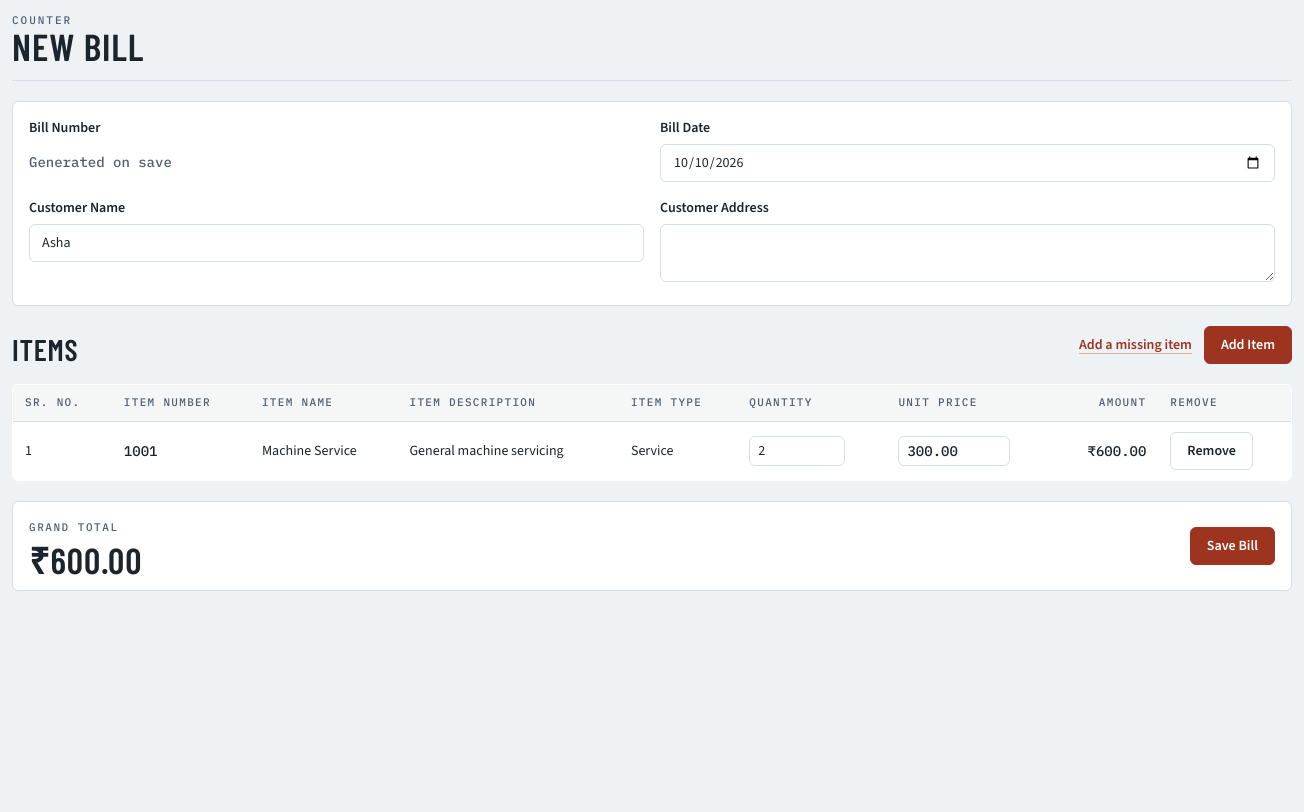
it: keeps View Bill and Create New Bill when the saved bill cannot be loaded
What coordinates should you click on to do the following:
click the button "Save Bill"
I would click on:
 (1232, 546)
Its box is [1190,527,1275,565].
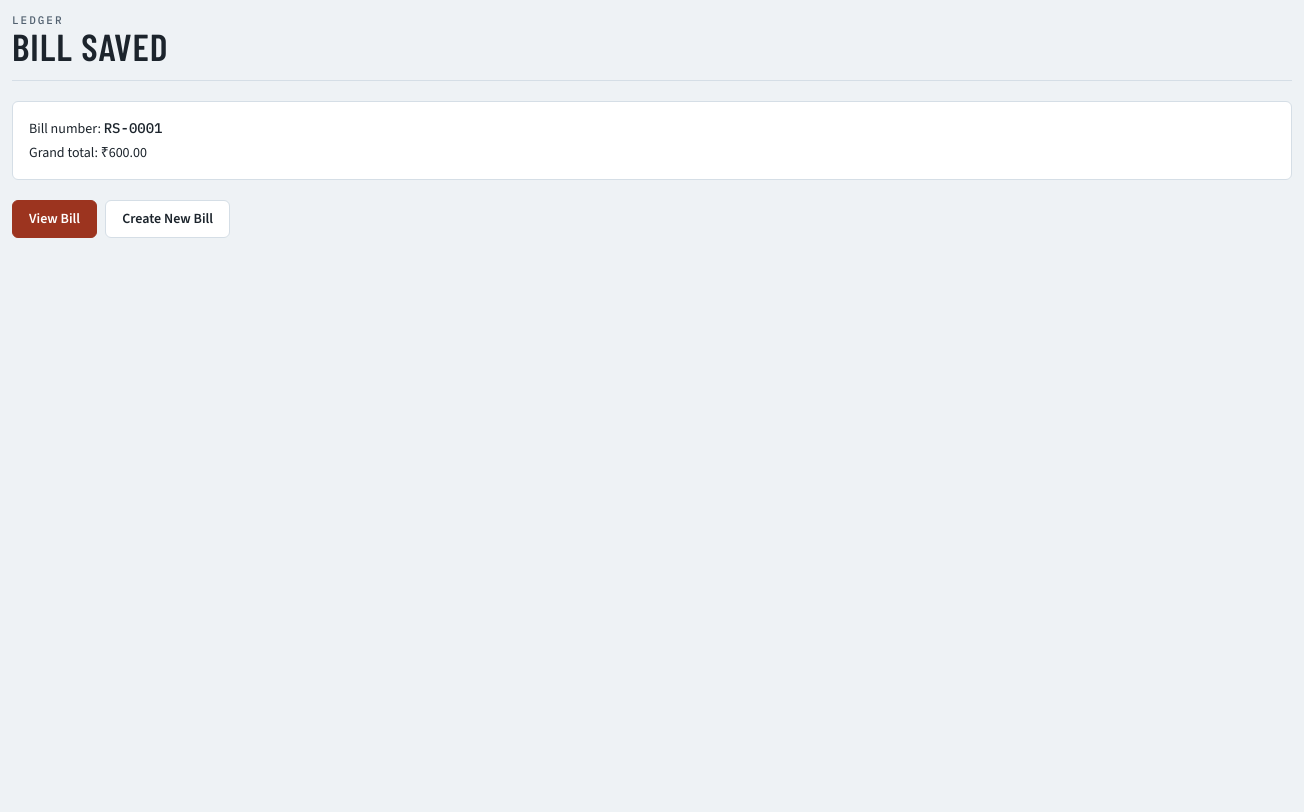
Expected: the button "Create New Bill" is shown, [105,200,230,238]
